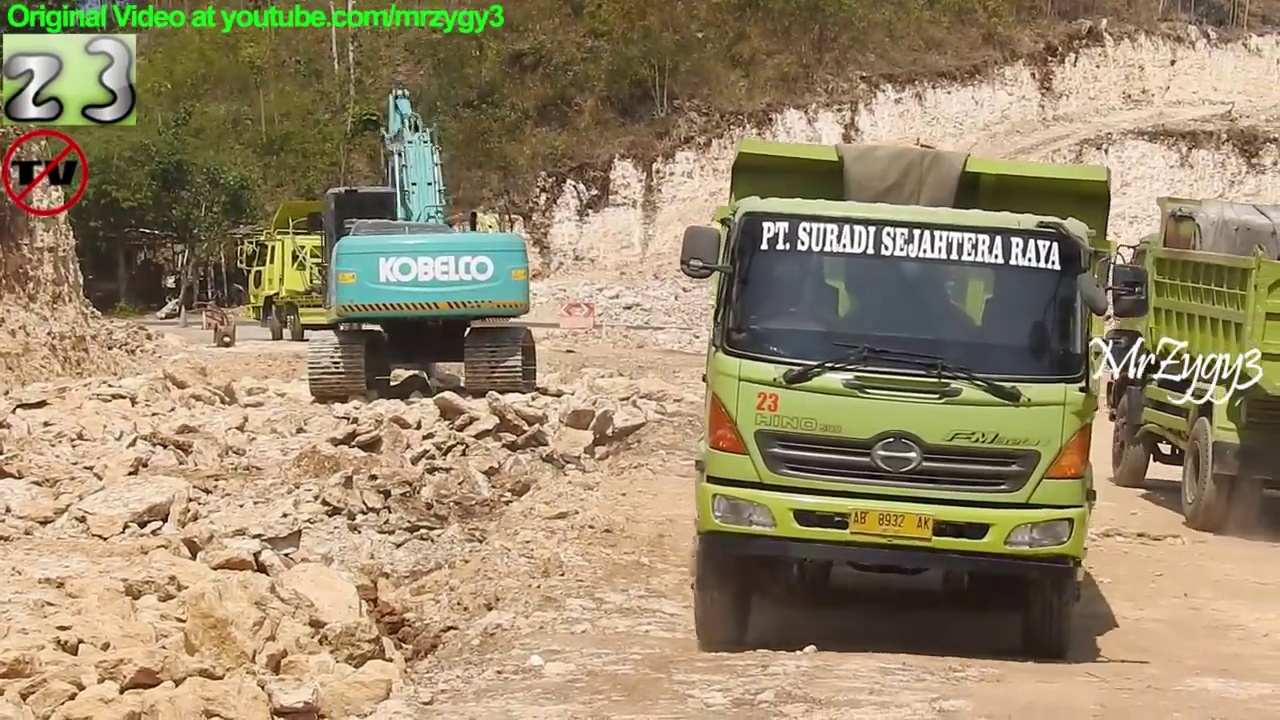excavator: (299, 82, 547, 399)
truck: (675, 130, 1157, 667), (1105, 188, 1280, 537), (231, 199, 531, 347)
